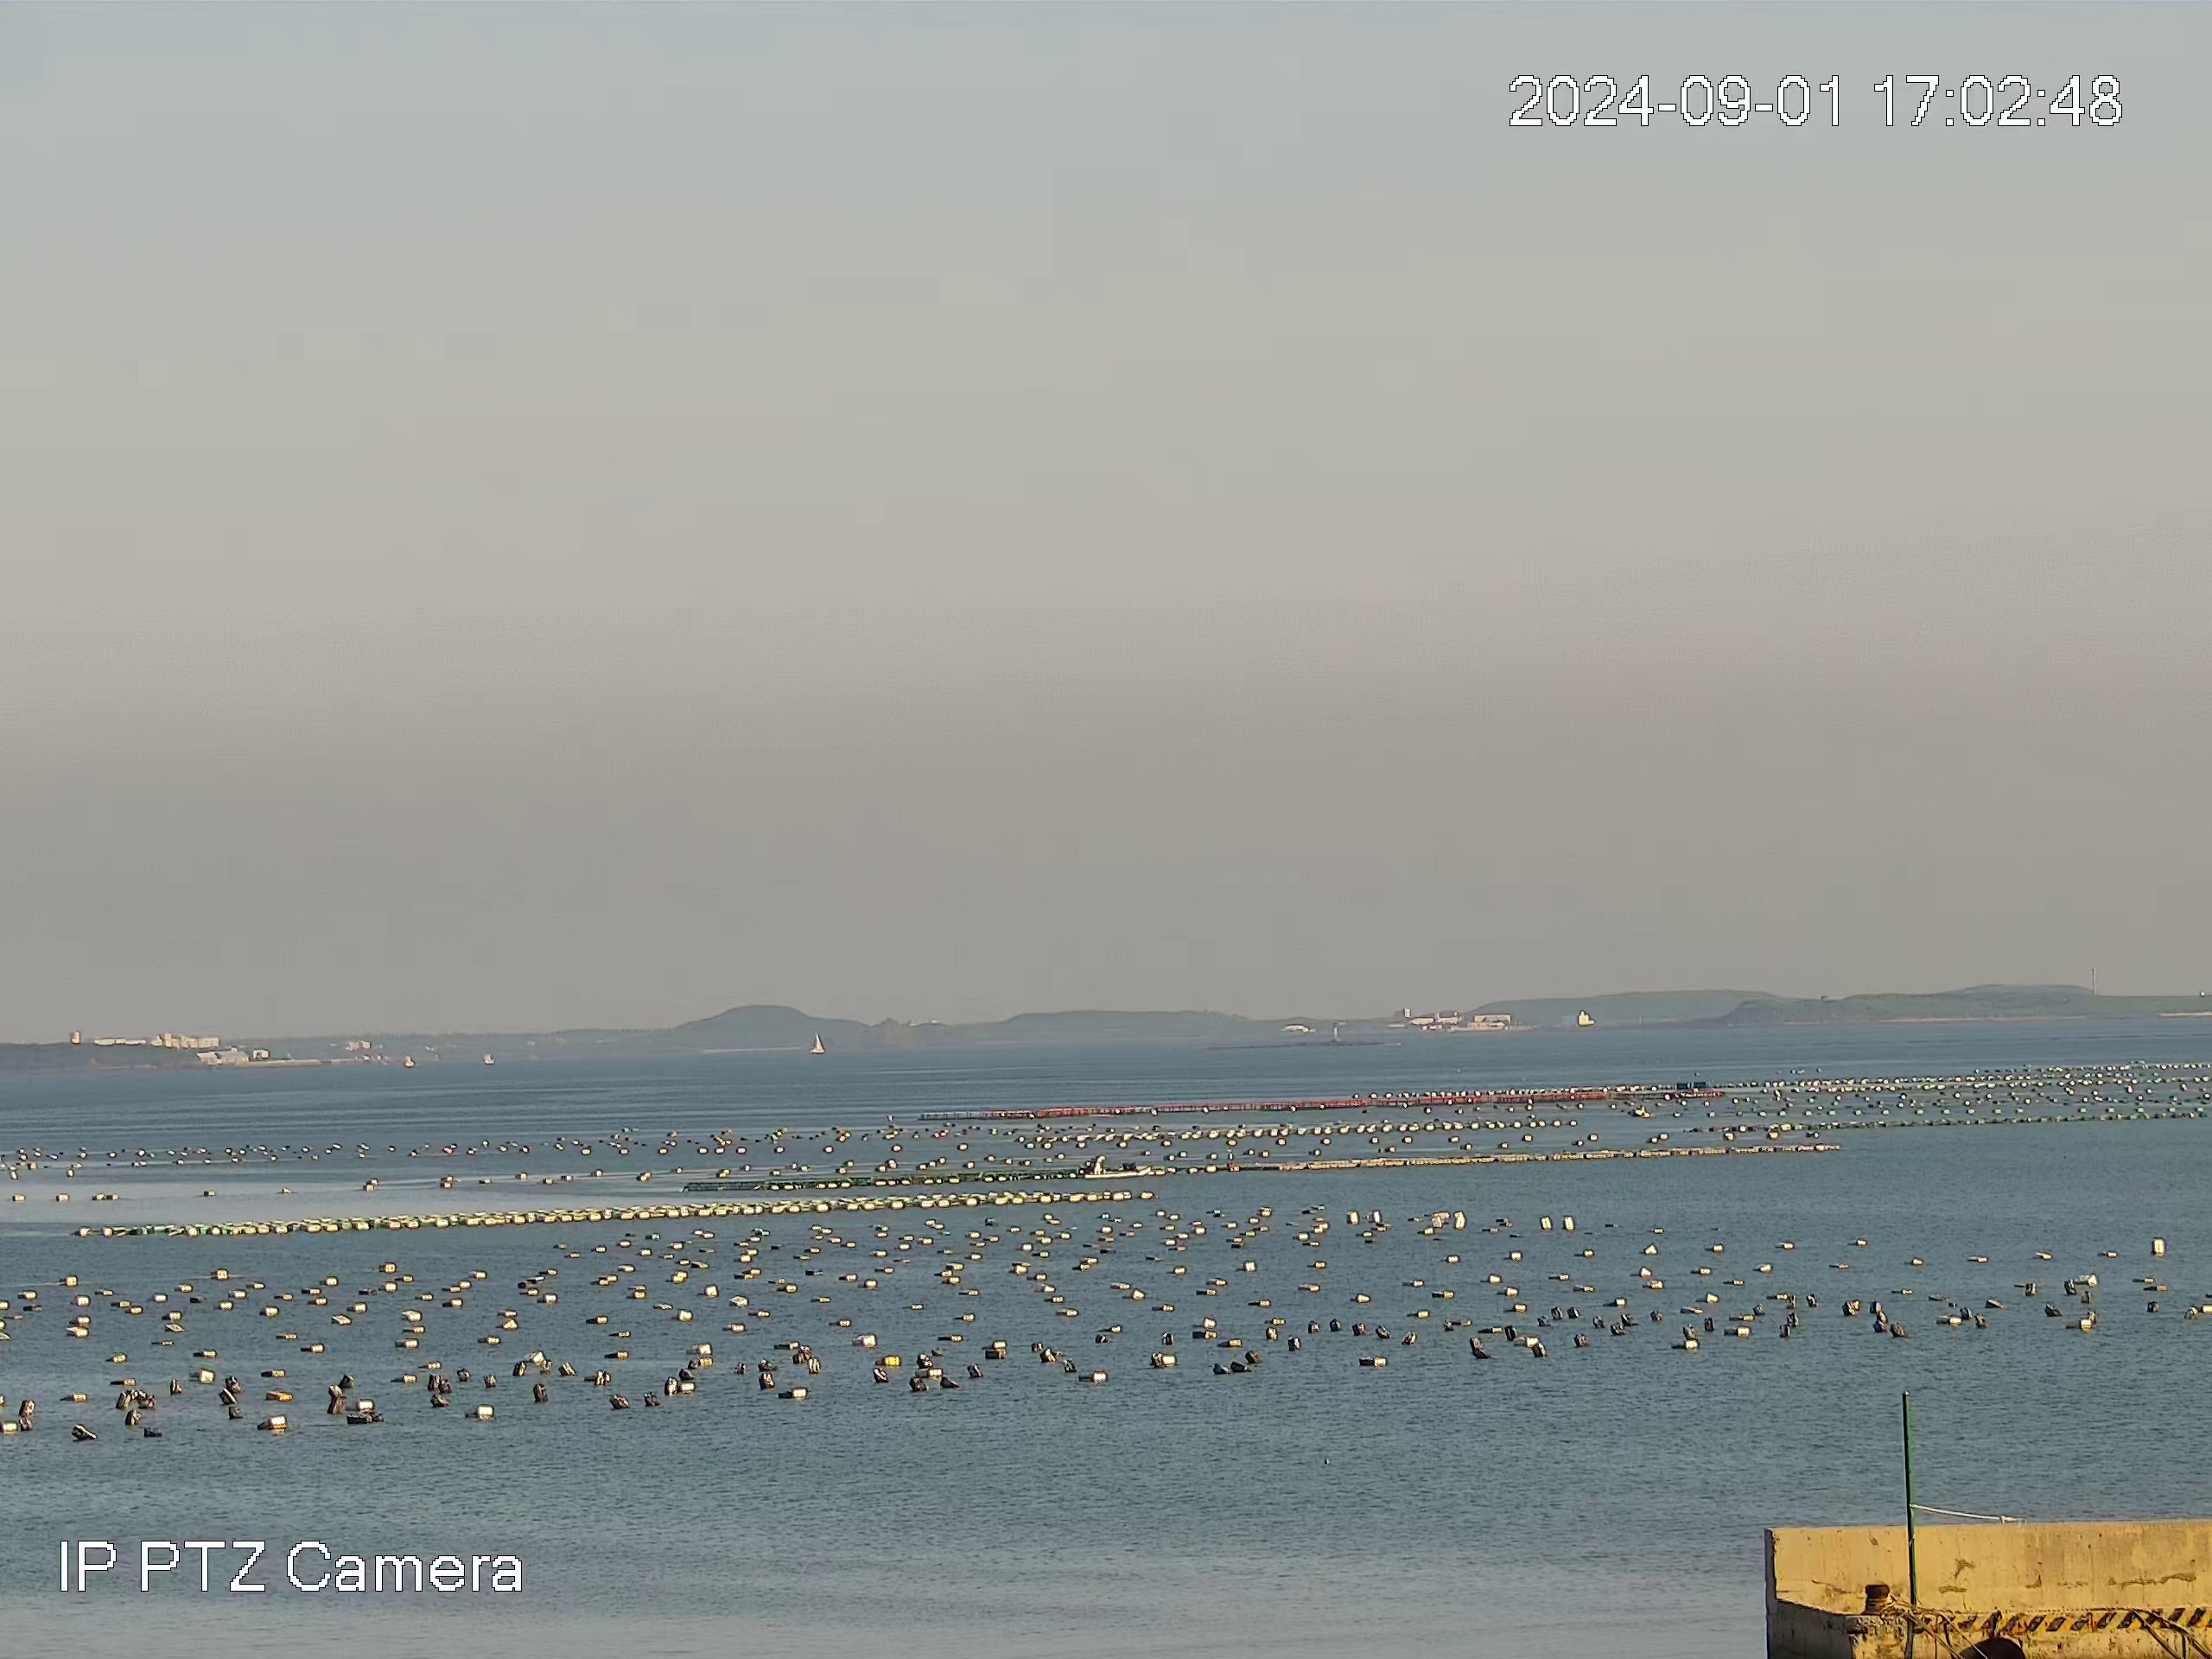boat: (1083, 1154, 1150, 1176), (1630, 1107, 1653, 1121)
